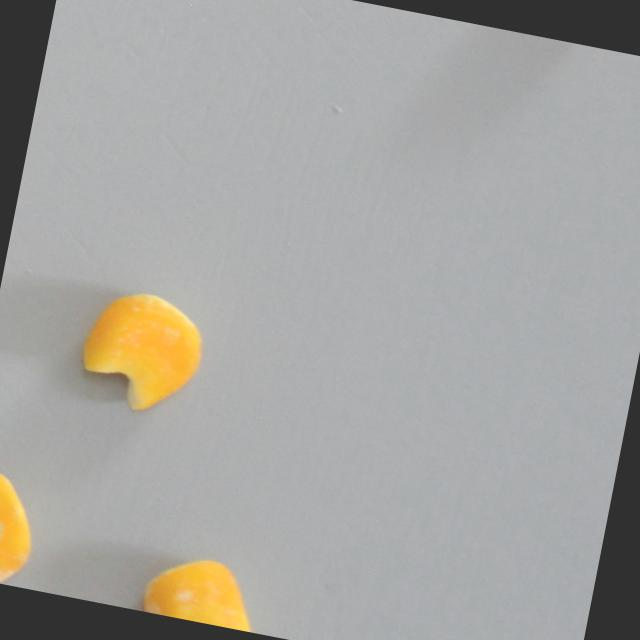pelicula: (78, 280, 209, 416), (138, 547, 267, 633), (0, 472, 45, 588)
